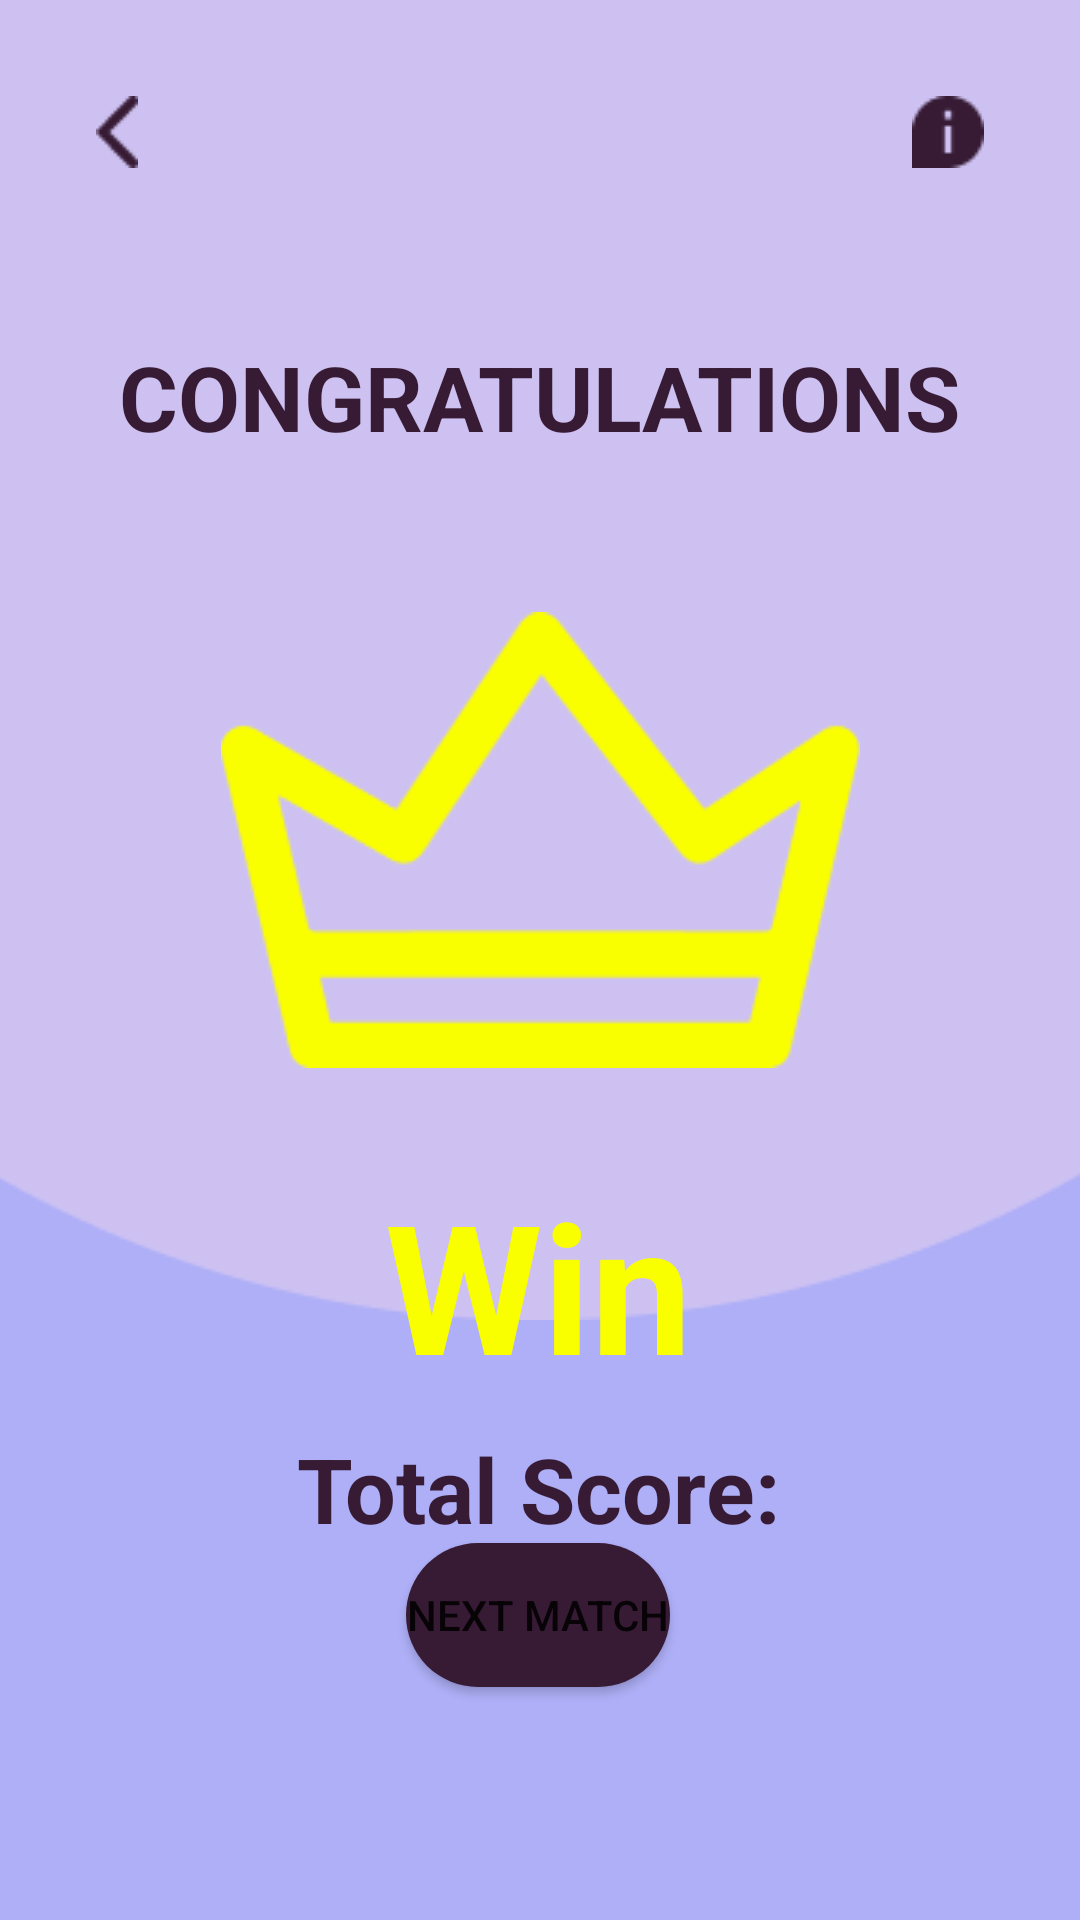

Screen size 1080w x 1920h. Icon name, then its center in pixels as (x=x, y=y):
back: (x=117, y=132)
info: (x=948, y=132)
